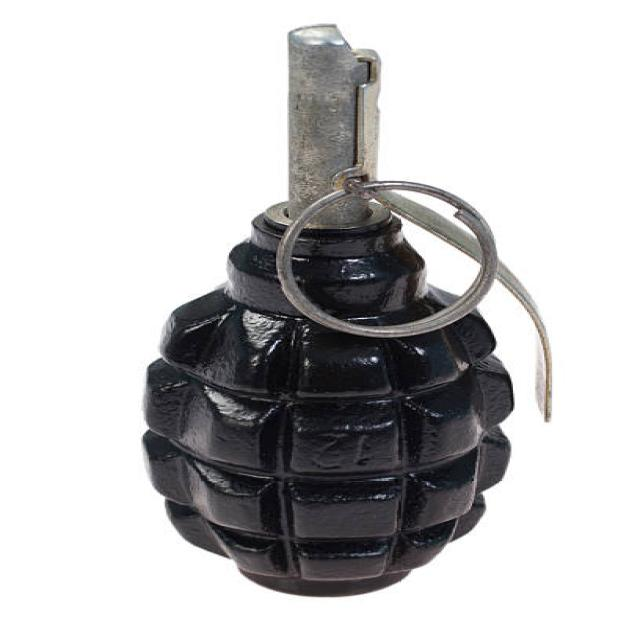grenade: (147, 19, 557, 602)
